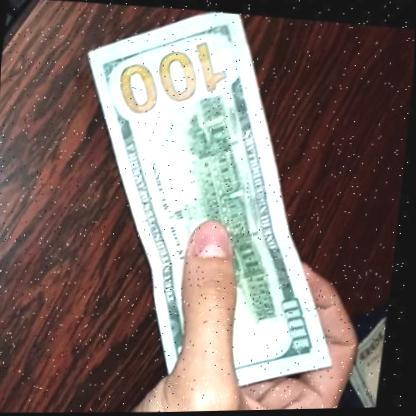one_hundred-back: (49, 0, 374, 397)
